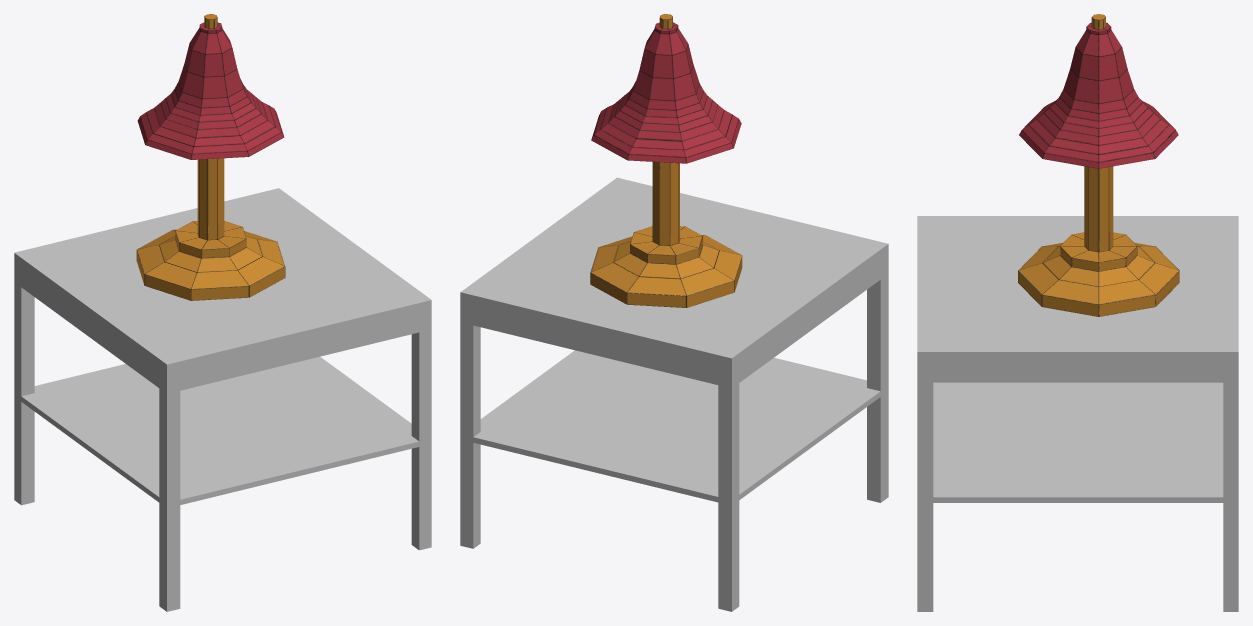
Rendered from nightstandlamp.fbx.
3 renders of one model, left to right at view 1: azimuth 30°, elevation 25°; view 2: azimuth 150°, elevation 25°; view 3: azimuth 270°, elevation 25°, orthographic. The views are drawn at different scales.
Visible parts, largest first — view 1: nightstand, lamp; view 2: nightstand, lamp; view 3: nightstand, lamp.
Part boxes in pixels (x1,y1,x2,y2): nightstand: (14,188,431,611); lamp: (136,14,285,300); nightstand: (460,177,888,611); lamp: (590,14,742,307); nightstand: (917,216,1238,611); lamp: (1018,14,1179,316).
Size of the model in its own units: 398 by 719 by 398.
